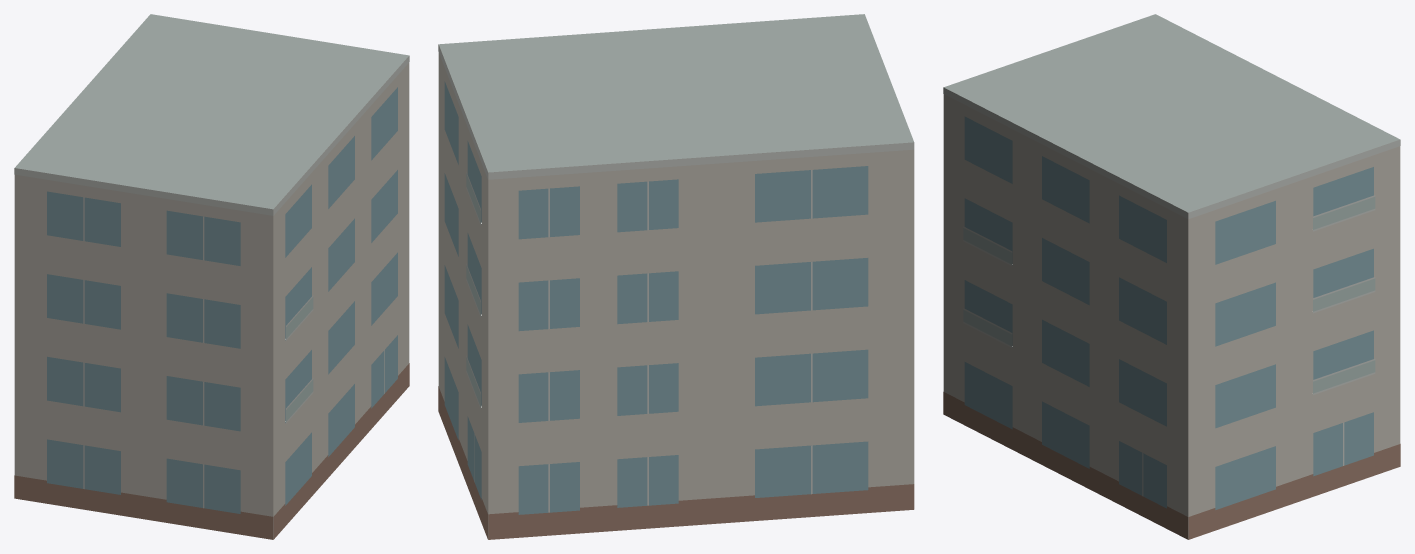
File: survey-upis-32950014.glb
The picture shows the model from 3 angles, left to right: view 1: azimuth 30°, elevation 25°; view 2: azimuth 150°, elevation 25°; view 3: azimuth 270°, elevation 25°; orthographic projection. The views are drawn at different scales.
Parts seen in each view (by area): view 1: survey-upis-32950014.tmp; view 2: survey-upis-32950014.tmp; view 3: survey-upis-32950014.tmp.
Boxes of the visible parts, x1,y1,x2,y2 form: survey-upis-32950014.tmp: [14, 14, 409, 539]; survey-upis-32950014.tmp: [438, 14, 914, 539]; survey-upis-32950014.tmp: [943, 14, 1400, 539].
Size of the model in its own units: 15.9 by 12.2 by 15.45.
